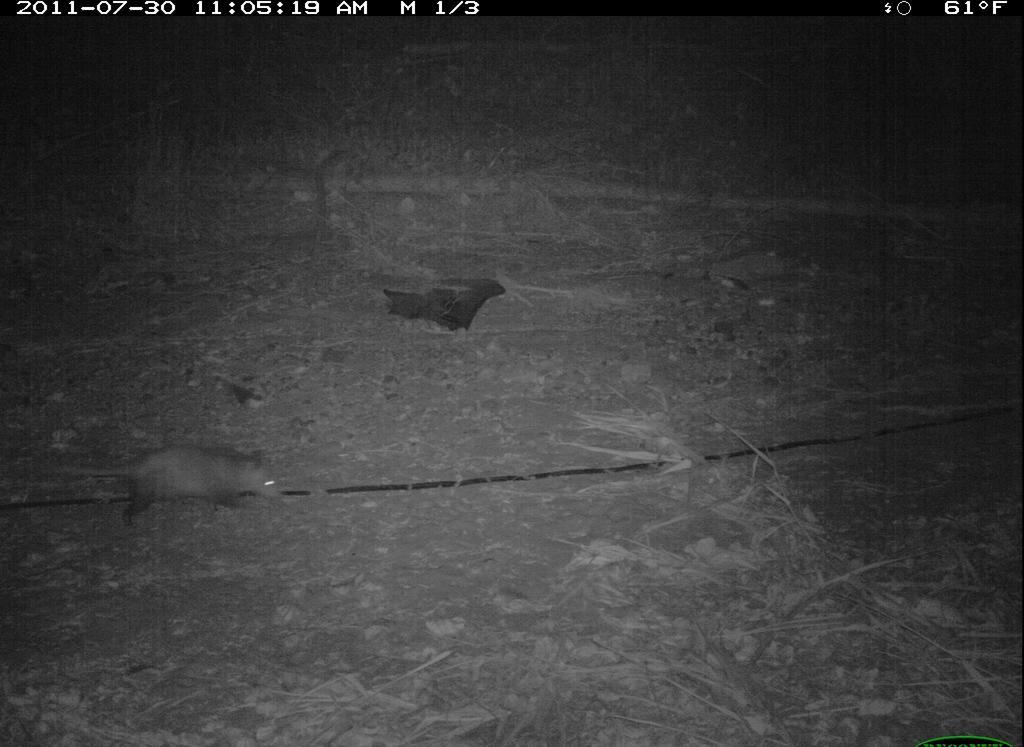opossum: (15, 432, 328, 546)
